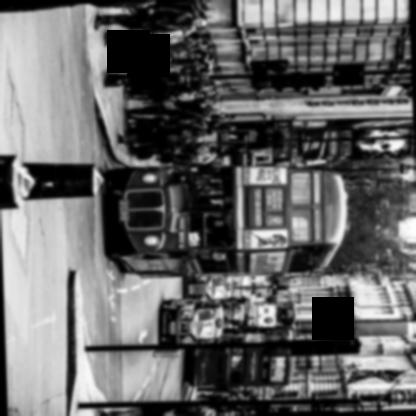backpack: (159, 135, 183, 144), (160, 409, 184, 416)
handbag: (162, 100, 199, 116), (135, 151, 156, 162), (166, 136, 181, 144), (149, 44, 164, 48)
suitcase: (101, 71, 122, 88), (116, 131, 139, 142)
